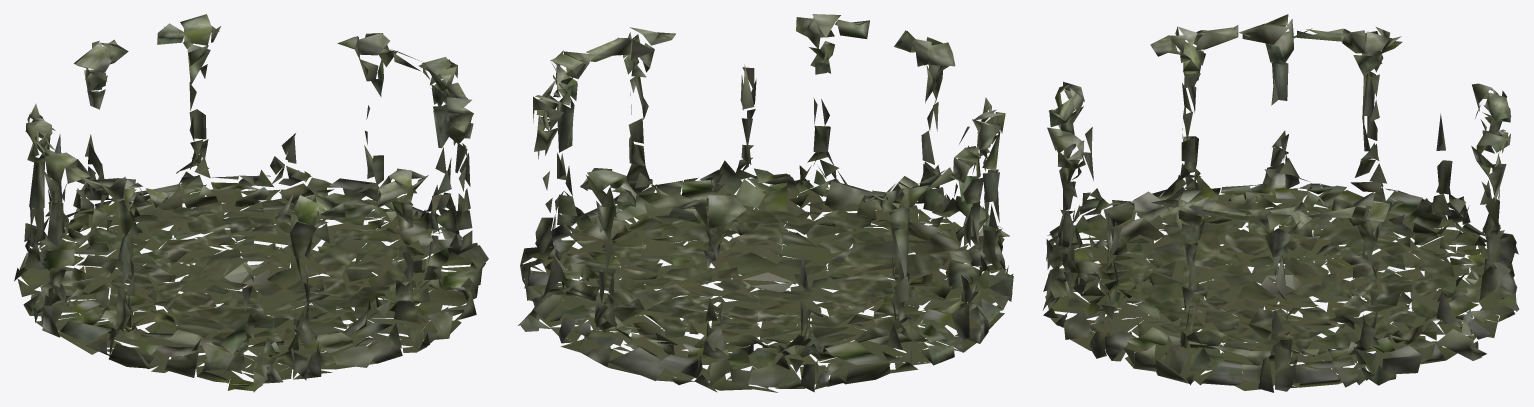
The model's file is Ancient_Stone_Circle_town.glb.
The picture shows the model from 3 angles, left to right: view 1: azimuth 30°, elevation 25°; view 2: azimuth 150°, elevation 25°; view 3: azimuth 270°, elevation 25°; orthographic projection. The views are drawn at different scales.
Parts seen in each view (by area): view 1: Ancient_Stone_Circle; view 2: Ancient_Stone_Circle; view 3: Ancient_Stone_Circle.
Boxes of the visible parts, bbox=[...] form: Ancient_Stone_Circle: bbox=[14, 14, 488, 392]; Ancient_Stone_Circle: bbox=[518, 14, 1013, 392]; Ancient_Stone_Circle: bbox=[1042, 14, 1519, 392].
Size of the model in its own units: 1.88 by 0.814 by 1.86.
1 material, 1 textured.
